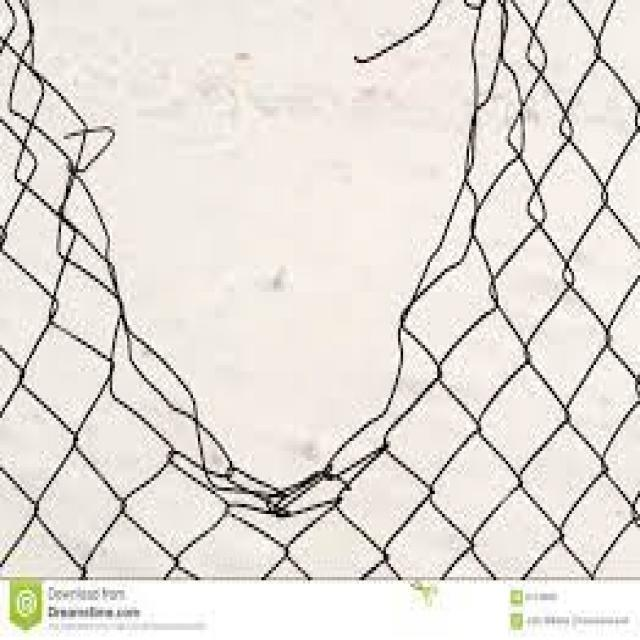fence line: (1, 4, 495, 498)
